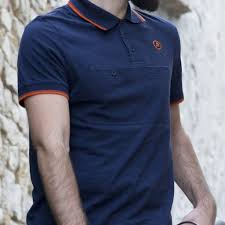C_polo shirt: (17, 7, 191, 225)
